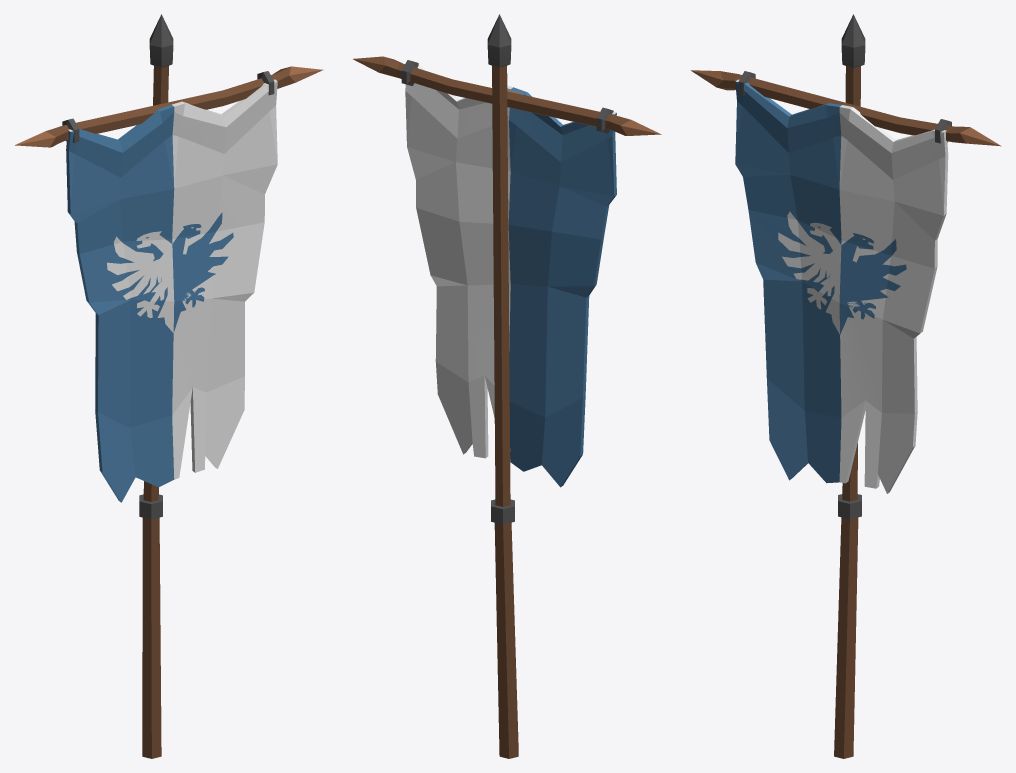
Rendered from Banier.fbx.
3 views of the same model, side by side, from view 1: azimuth 30°, elevation 25°; view 2: azimuth 150°, elevation 25°; view 3: azimuth 330°, elevation 25° (orthographic).
Parts seen in each view (by area): view 1: Banier; view 2: Banier; view 3: Banier.
Boxes of the visible parts, <box> form: Banier: <box>15,14,323,758</box>; Banier: <box>353,14,661,758</box>; Banier: <box>691,14,1001,758</box>.
Size of the model in its own units: 33.72 by 76.98 by 4.33.
